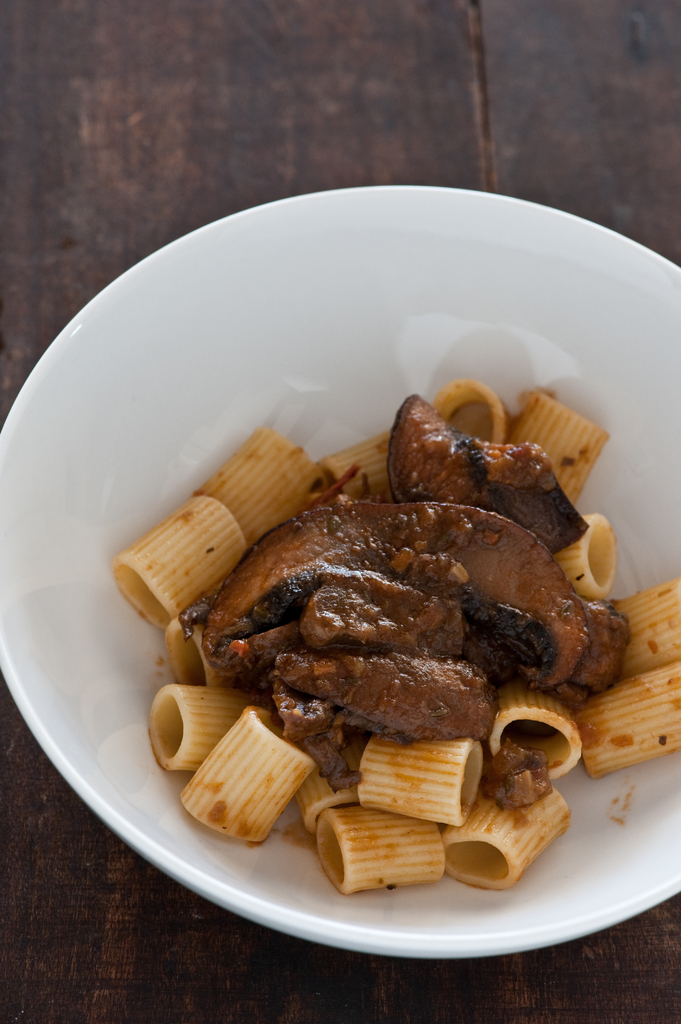pasta: (150, 378, 650, 879)
